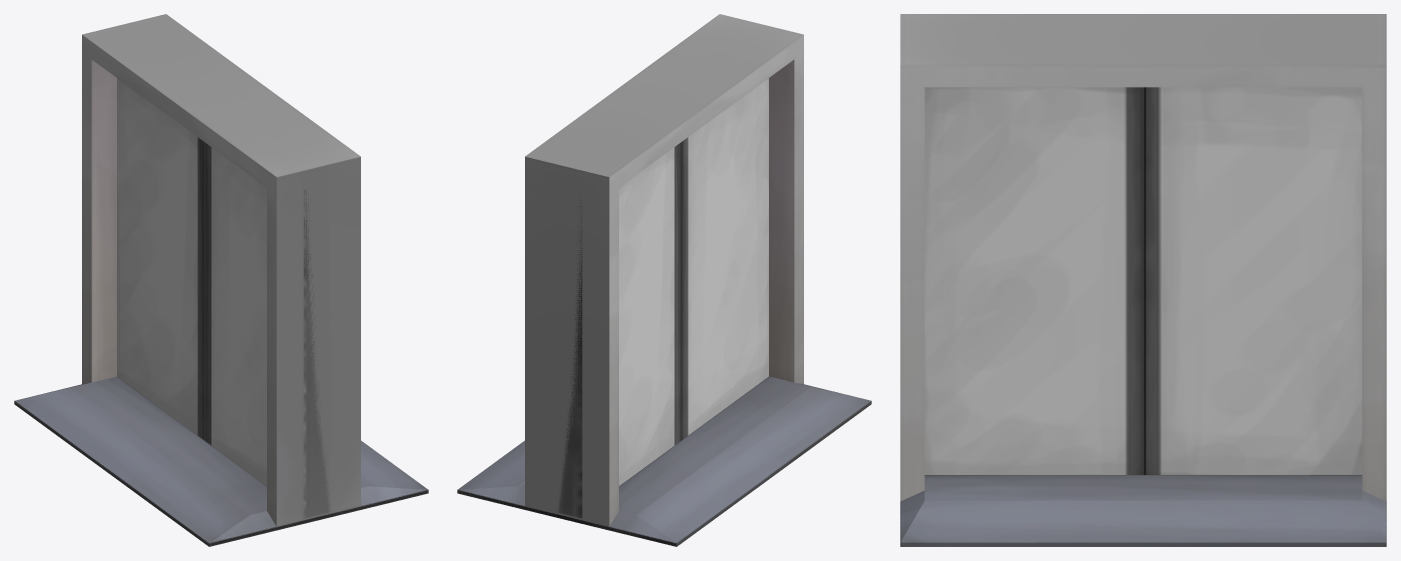
Rendered from AutomaticDoor.fbx.
The picture shows the model from 3 angles, left to right: view 1: azimuth 30°, elevation 25°; view 2: azimuth 150°, elevation 25°; view 3: azimuth 270°, elevation 25°; orthographic projection. The views are drawn at different scales.
Parts seen in each view (by area): view 1: Frame.001, Right.001, Frame, Base.001, Left.001, Left, Base; view 2: Frame.001, Left.001, Frame, Base.001, Right.001, Right, Base; view 3: Left, Right, Frame, Base, Frame.001.
Boxes of the visible parts, x1,y1,x2,y2 form: Frame.001: (82,24,318,526); Right.001: (117,78,205,440); Frame: (124,14,360,516); Base.001: (14,376,301,546); Left.001: (205,143,266,485); Left: (303,190,330,518); Base: (302,440,428,524); Frame.001: (567,24,803,526); Left.001: (680,78,768,440); Frame: (525,14,761,516); Base.001: (584,376,871,546); Right.001: (619,143,680,485); Right: (557,198,582,518); Base: (457,440,583,524); Left: (924,87,1143,474); Right: (1143,87,1362,474); Frame: (900,39,1386,501); Base: (900,475,1386,546); Frame.001: (900,14,1386,39).
Bounding box in the file's own units: 1.3 × 2 × 2.
